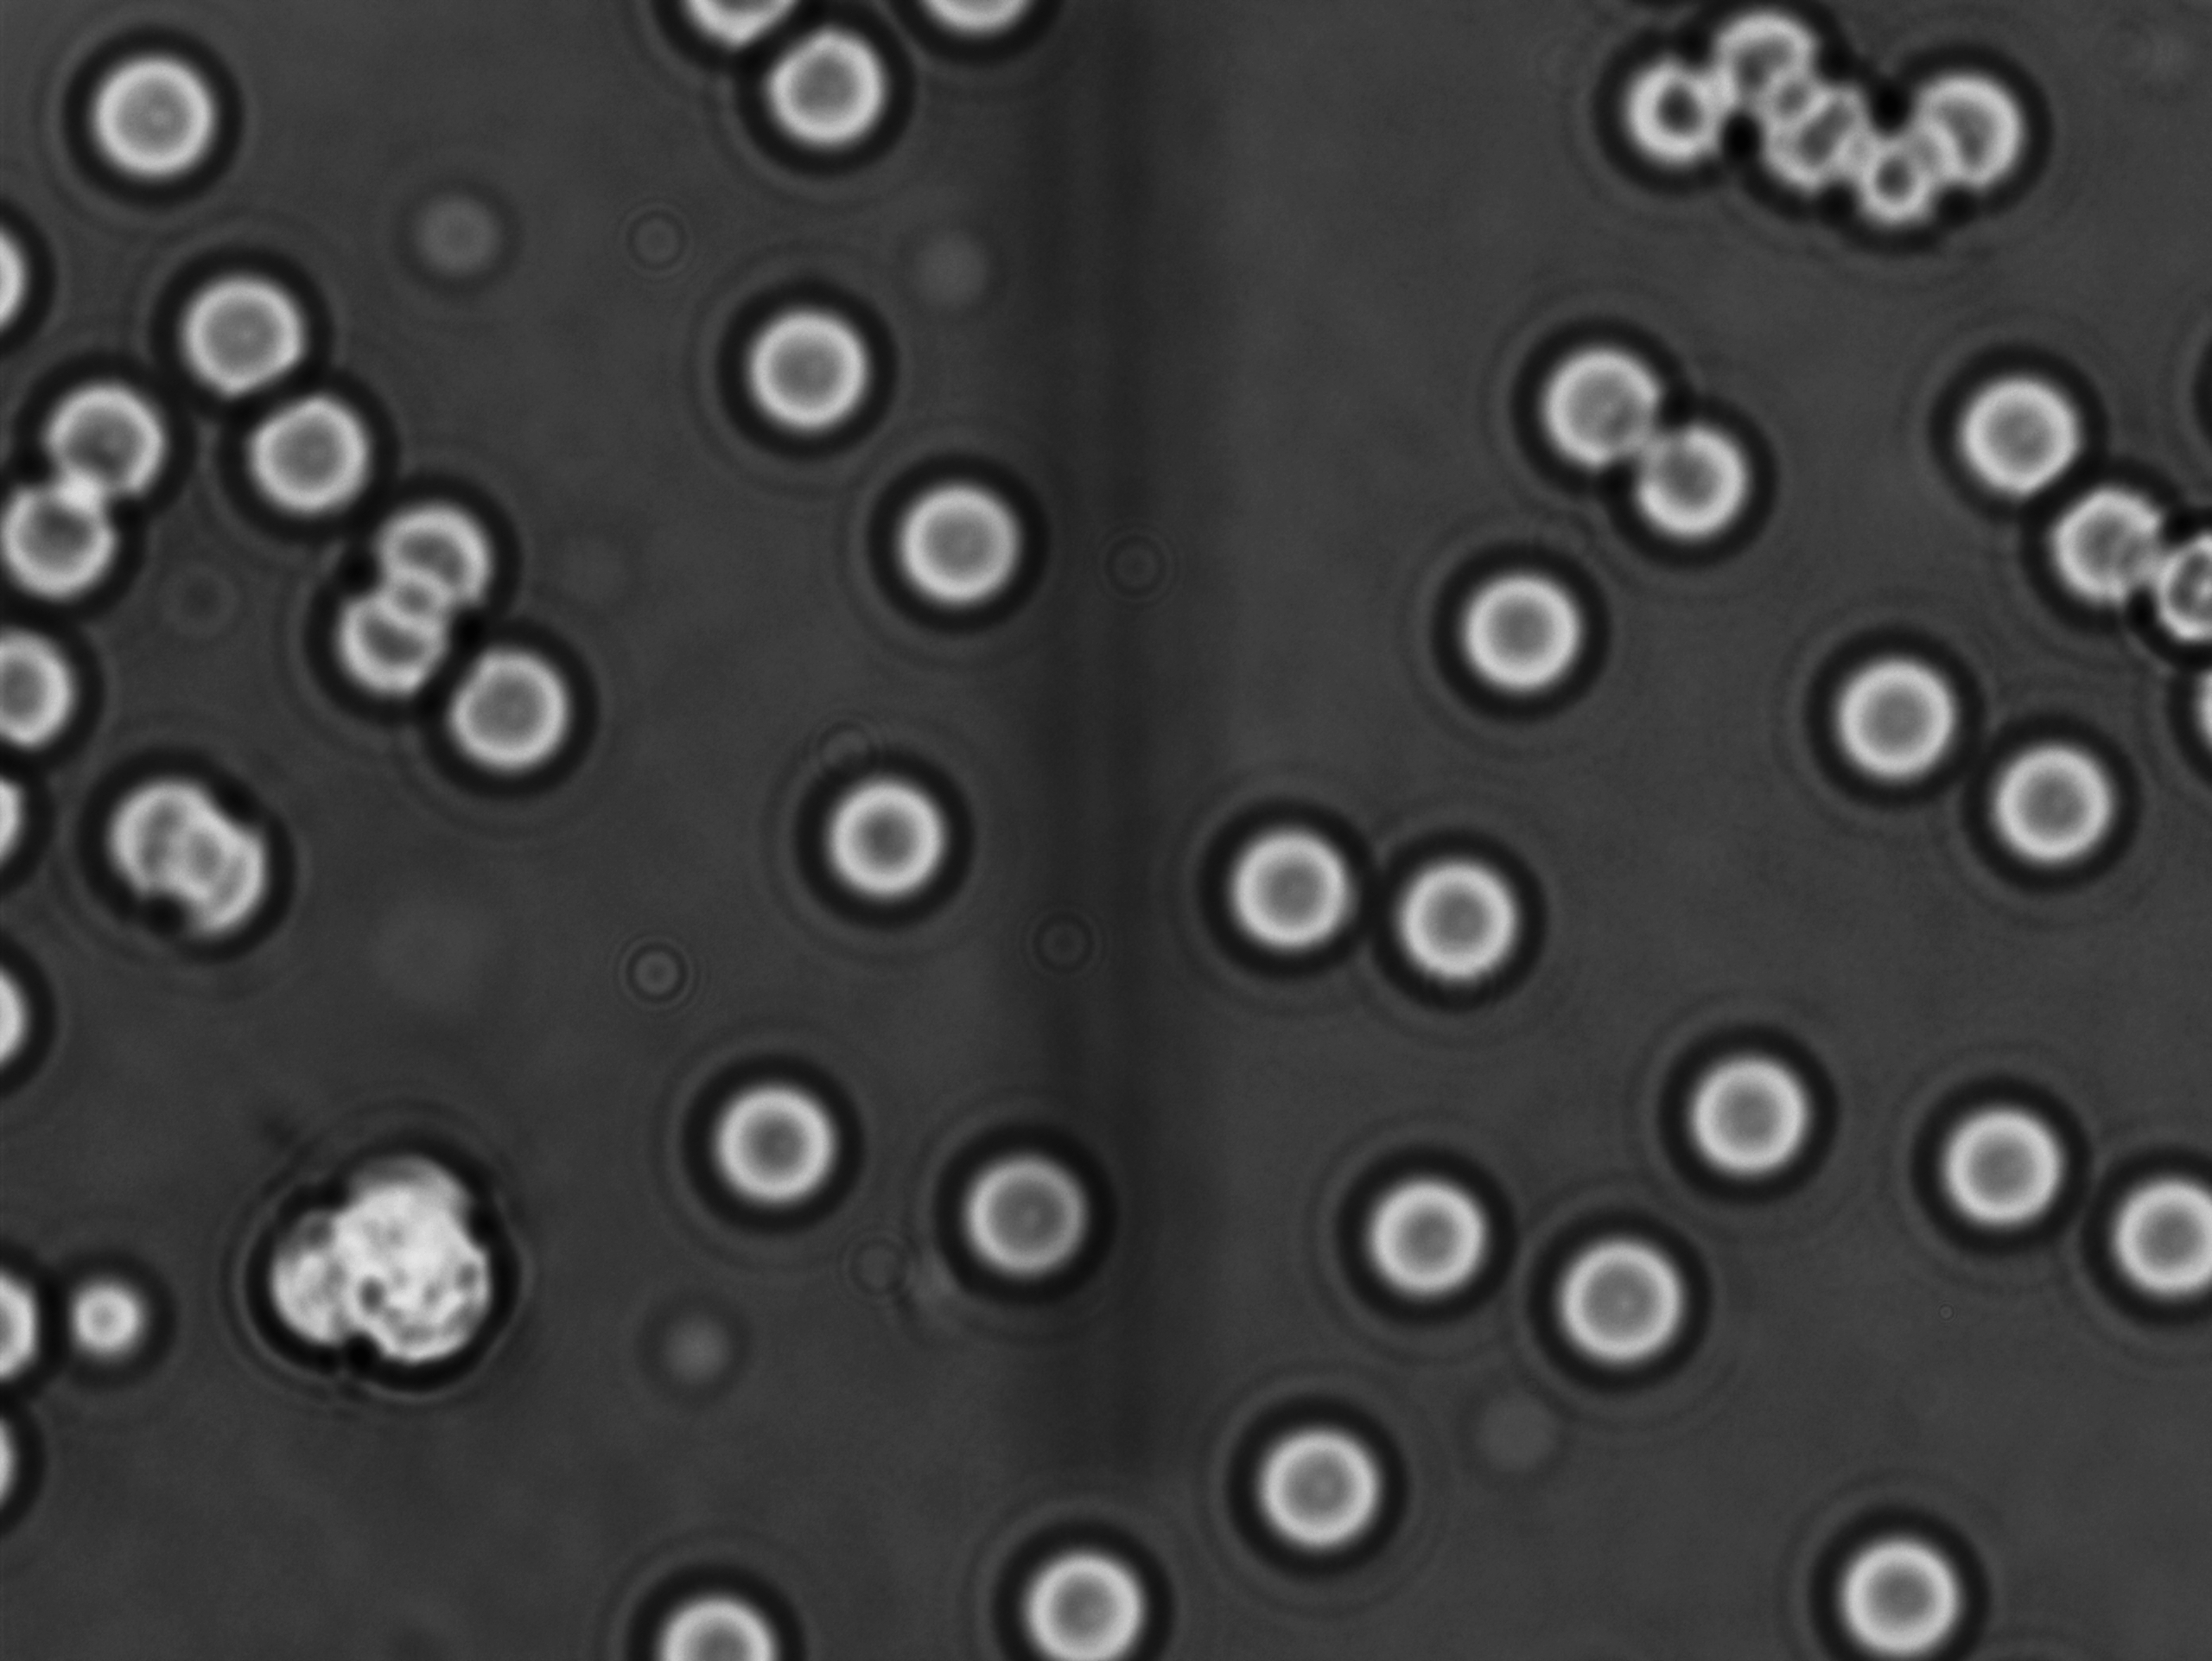depth:60: (1642, 984, 1853, 1207), (1793, 611, 2006, 822), (1938, 717, 2156, 918), (1354, 808, 1568, 1010), (865, 443, 1069, 649), (1504, 314, 1701, 523), (265, 536, 476, 728), (58, 21, 263, 216), (1910, 1064, 2118, 1254), (1415, 544, 1628, 728), (918, 1124, 1118, 1317), (1333, 1132, 1526, 1333), (722, 19, 921, 206), (419, 604, 609, 796), (659, 1059, 860, 1241), (356, 461, 550, 647), (1540, 1220, 1724, 1415), (705, 269, 883, 468), (1195, 785, 1387, 968), (162, 253, 365, 424), (1631, 394, 1814, 583), (1921, 335, 2107, 518), (795, 754, 987, 930), (1807, 1499, 2010, 1661), (1218, 1408, 1403, 1581), (227, 373, 403, 551), (994, 1520, 1181, 1661), (600, 1546, 811, 1661), (2095, 1143, 2212, 1335)
